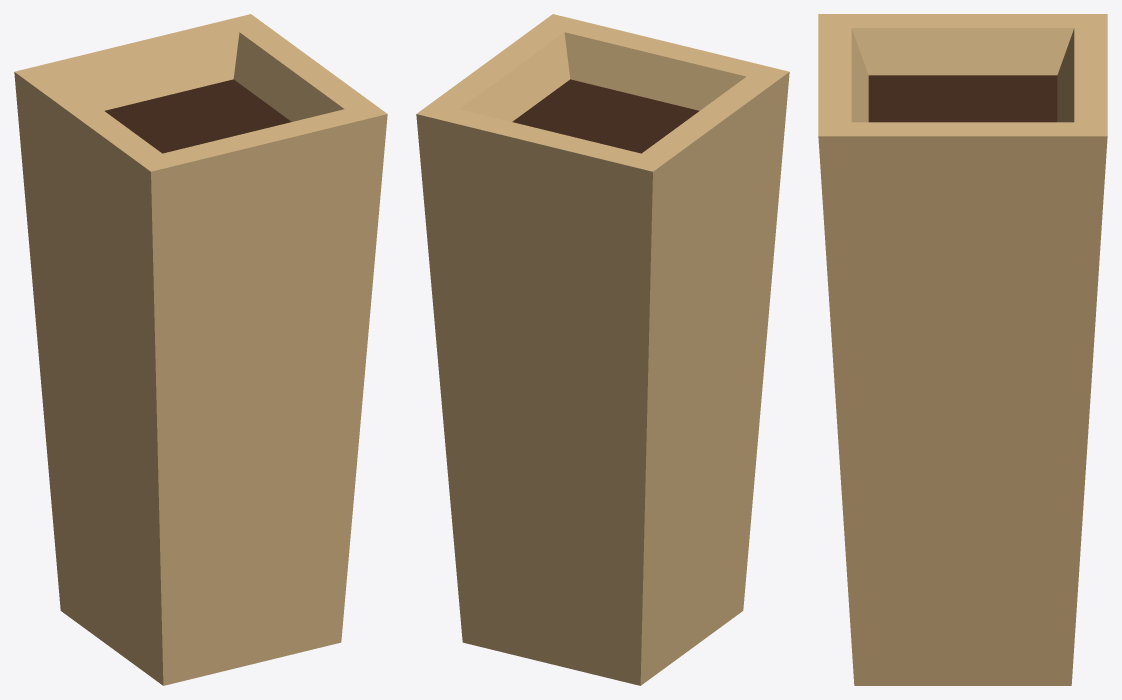
The model's file is flower_pot_long1.fbx.
3 renders of one model, left to right at view 1: azimuth 30°, elevation 25°; view 2: azimuth 150°, elevation 25°; view 3: azimuth 270°, elevation 25°, orthographic. The views are drawn at different scales.
Visible parts, largest first — view 1: flower_pot_long1; view 2: flower_pot_long1; view 3: flower_pot_long1.
Boxes of the visible parts, bbox=[...] form: flower_pot_long1: bbox=[14, 14, 387, 685]; flower_pot_long1: bbox=[416, 14, 789, 685]; flower_pot_long1: bbox=[818, 14, 1107, 685].
Bounding box in the file's own units: 42.63 × 42.63 × 91.86.
